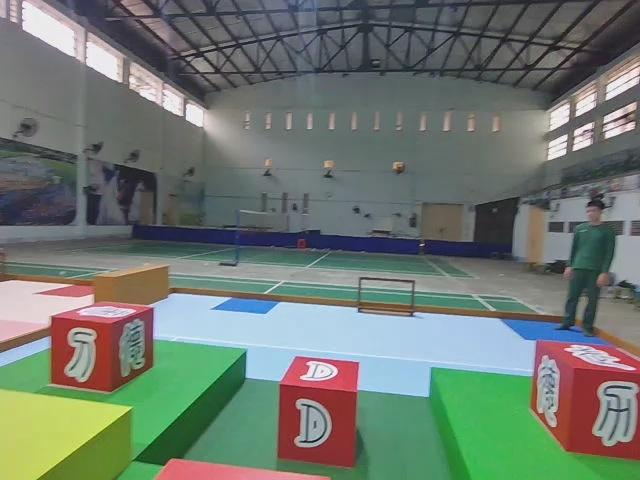R2 Fake: (529, 336, 640, 462), (48, 301, 156, 394)
R2 Real: (275, 353, 362, 468)
